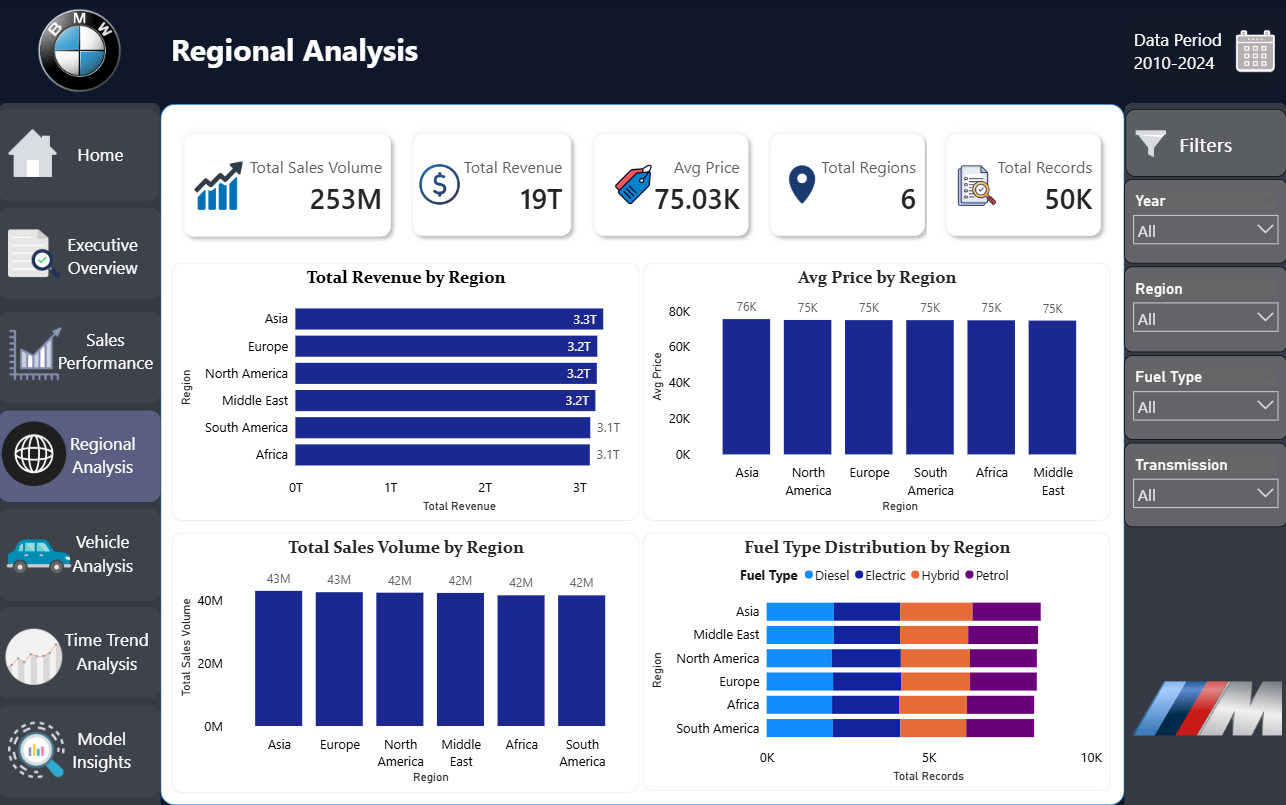

The dashboard page shown, as its layout file describes it:
{"tool":"powerbi","page":{"name":"Regional Analysis","canvas":[1600,1000],"ordinal":3},"visuals":[{"type":"shape","box":[1398,18,200,92],"z":0,"group":"g14"},{"type":"shape","box":[1398,128,202,872],"z":0},{"type":"shape","box":[0,258.8,202,114],"z":0,"group":"g7"},{"type":"shape","box":[-0.3,387.9,202,114],"z":0,"group":"g3"},{"type":"shape","box":[0,510,202,114],"z":0,"group":"g4"},{"type":"shape","box":[0,875.8,202,114],"z":0,"group":"g1"},{"type":"image","box":[1528,38,64,52],"z":1000,"group":"g14"},{"type":"shape","box":[202,130,1196,870],"z":1000},{"type":"actionButton","box":[76,510,108,109],"z":1000,"group":"g4"},{"type":"shape","box":[0,128,202,872],"z":2000},{"type":"image","box":[12.8,275.9,65,80],"z":2000,"group":"g7"},{"type":"image","box":[14.2,399,65,80],"z":2000,"group":"g3"},{"type":"image","box":[4.3,524.1,80,80],"z":2000,"group":"g4"},{"type":"image","box":[12.8,890.9,70,80],"z":2000,"group":"g1"},{"type":"actionButton","box":[76,262.8,108,108],"z":2500,"group":"g7"},{"type":"actionButton","box":[70.2,381,127,109],"z":2500,"group":"g3"},{"type":"actionButton","box":[70,875.8,118,110],"z":2500,"group":"g1"},{"type":"cardVisual","fields":{"Data":["fact_bmw_sales.Total Sales Volume"]},"box":[202,138,315,186],"z":3000,"group":"g13"},{"type":"clusteredBarChart","fields":{"Category":["fact_bmw_sales.Region"],"Y":["fact_bmw_sales.Total Revenue"]},"box":[216,328,580,320],"z":3000},{"type":"cardVisual","fields":{"Data":["fact_bmw_sales.Total Revenue"]},"box":[486,138,255,185],"z":4000,"group":"g12"},{"type":"clusteredColumnChart","fields":{"Category":["fact_bmw_sales.Region"],"Y":["fact_bmw_sales.Total Sales Volume"]},"box":[216,662,580,322],"z":4000},{"type":"cardVisual","fields":{"Data":["fact_bmw_sales.Avg Price"]},"box":[710,138,250,185],"z":5000,"group":"g11"},{"type":"clusteredColumnChart","fields":{"Category":["fact_bmw_sales.Region"],"Y":["fact_bmw_sales.Avg Price"]},"box":[800,328,580,320],"z":5000},{"type":"cardVisual","fields":{"Data":["fact_bmw_sales.Total Regions"]},"box":[929,138,250,185],"z":6000,"group":"g9"},{"type":"barChart","title":" Fuel Type Distribution by Region","fields":{"Category":["fact_bmw_sales.Region"],"Y":["fact_bmw_sales.Total Records"],"Series":["fact_bmw_sales.Fuel_Type"]},"box":[800,662,580,320],"z":6000},{"type":"image","box":[0,0,202,128],"z":7000},{"type":"cardVisual","fields":{"Data":["fact_bmw_sales.Total Records"]},"box":[1148,138,250,185],"z":7000,"group":"g10"},{"type":"group","id":"g1","title":"Group 11","box":[0,875.8,202.9,113.2],"z":8000},{"type":"group","id":"g2","title":"Group 12","box":[0,754.4,202.9,113.2],"z":9000},{"type":"group","id":"g3","title":"Group 10","box":[-0.3,381,202,120.9],"z":10000},{"type":"group","id":"g4","title":"Group 14","box":[0,510,202,114],"z":11000},{"type":"group","id":"g5","title":"Group 13","box":[-0.8,136.6,202,114],"z":12000},{"type":"group","id":"g6","title":"Group 9","box":[0,632.2,202,114],"z":13000},{"type":"group","id":"g7","title":"Group 15","box":[0,258.8,202,114],"z":14000},{"type":"slicer","fields":{"Values":["fact_bmw_sales.Year"]},"box":[1398,224,202,105],"z":15000},{"type":"slicer","fields":{"Values":["fact_bmw_sales.Transmission"]},"box":[1398,550,202,105],"z":16000},{"type":"image","box":[244,202,60.4,60.3],"z":17000,"group":"g13"},{"type":"slicer","fields":{"Values":["fact_bmw_sales.Region"]},"box":[1398,332.4,202,106],"z":17000},{"type":"textbox","box":[1399.2,136.7,200,84],"z":18000,"group":"g8"},{"type":"slicer","fields":{"Values":["fact_bmw_sales.Fuel_Type"]},"box":[1398,441.7,202,105],"z":18000},{"type":"image","box":[1405.6,153.8,50,50],"z":19000,"group":"g8"},{"type":"image","box":[1406,828,186,104],"z":19000},{"type":"group","id":"g8","title":"Group 16","box":[1399.2,136.7,200,84],"z":20000},{"type":"image","box":[523,200,50,60],"z":20000,"group":"g12"},{"type":"shape","box":[0,632.2,202,114],"z":20007,"group":"g6"},{"type":"shape","box":[0,754.4,202,114],"z":20008,"group":"g2"},{"type":"image","box":[8.5,767.3,70,100],"z":20018,"group":"g2"},{"type":"image","box":[10.7,651.2,80,80],"z":20019,"group":"g6"},{"type":"actionButton","box":[76,754.4,118,110],"z":20518,"group":"g2"},{"type":"actionButton","box":[76,632.2,108,109],"z":20519,"group":"g6"},{"type":"group","id":"g9","title":"Group 1","box":[929,138,250,185],"z":21000},{"type":"image","box":[762,200,50,60],"z":21000,"group":"g11"},{"type":"group","id":"g10","title":"Group 2","box":[1148,138,250,185],"z":22000},{"type":"group","id":"g11","title":"Group 3","box":[710,138,250,185],"z":23000},{"type":"group","id":"g12","title":"Group 4","box":[486,138,255,185],"z":24000},{"type":"shape","box":[-0.8,136.6,202,114],"z":25000,"group":"g5"},{"type":"group","id":"g13","title":"Group 5","box":[202,138,315,186],"z":25000},{"type":"textbox","box":[210,32,360,70],"z":26000},{"type":"group","id":"g14","title":"Group 17","box":[1398,18,200,92],"z":27000},{"type":"image","box":[4.3,151.7,80,80],"z":27000,"group":"g5"},{"type":"actionButton","box":[69.2,136.6,118,110],"z":27500,"group":"g5"},{"type":"image","box":[1190,202,50,60],"z":29000,"group":"g10"},{"type":"image","box":[972,200,50,60],"z":30000,"group":"g9"}]}

Visuals, with their boxes in screenshot pixels (x1, y1, x2, y2), scaled from the page's 1600x1000 canvas onto the 1286x805 screenshot:
shape: l=1124, t=14, r=1284, b=89
shape: l=1124, t=103, r=1285, b=804
shape: l=0, t=208, r=162, b=300
shape: l=0, t=312, r=162, b=404
shape: l=0, t=411, r=162, b=502
shape: l=0, t=705, r=162, b=797
image: l=1228, t=31, r=1280, b=72
shape: l=162, t=105, r=1124, b=804
actionButton: l=61, t=411, r=148, b=498
shape: l=0, t=103, r=162, b=804
image: l=10, t=222, r=63, b=286
image: l=11, t=321, r=64, b=386
image: l=3, t=422, r=68, b=486
image: l=10, t=717, r=67, b=782
actionButton: l=61, t=212, r=148, b=298
actionButton: l=56, t=307, r=158, b=394
actionButton: l=56, t=705, r=151, b=794
cardVisual - fact_bmw_sales.Total Sales Volume: l=162, t=111, r=416, b=261
clusteredBarChart - fact_bmw_sales.Region x fact_bmw_sales.Total Revenue: l=174, t=264, r=640, b=522
cardVisual - fact_bmw_sales.Total Revenue: l=391, t=111, r=596, b=260
clusteredColumnChart - fact_bmw_sales.Region x fact_bmw_sales.Total Sales Volume: l=174, t=533, r=640, b=792
cardVisual - fact_bmw_sales.Avg Price: l=571, t=111, r=772, b=260
clusteredColumnChart - fact_bmw_sales.Region x fact_bmw_sales.Avg Price: l=643, t=264, r=1109, b=522
cardVisual - fact_bmw_sales.Total Regions: l=747, t=111, r=948, b=260
" Fuel Type Distribution by Region" barChart: l=643, t=533, r=1109, b=791
image: l=0, t=0, r=162, b=103
cardVisual - fact_bmw_sales.Total Records: l=923, t=111, r=1124, b=260
"Group 11" group: l=0, t=705, r=163, b=796
"Group 12" group: l=0, t=607, r=163, b=698
"Group 10" group: l=0, t=307, r=162, b=404
"Group 14" group: l=0, t=411, r=162, b=502
"Group 13" group: l=0, t=110, r=162, b=202
"Group 9" group: l=0, t=509, r=162, b=601
"Group 15" group: l=0, t=208, r=162, b=300
slicer - fact_bmw_sales.Year: l=1124, t=180, r=1285, b=265
slicer - fact_bmw_sales.Transmission: l=1124, t=443, r=1285, b=527
image: l=196, t=163, r=245, b=211
slicer - fact_bmw_sales.Region: l=1124, t=268, r=1285, b=353
textbox: l=1125, t=110, r=1285, b=178
slicer - fact_bmw_sales.Fuel_Type: l=1124, t=356, r=1285, b=440
image: l=1130, t=124, r=1170, b=164
image: l=1130, t=667, r=1280, b=750
"Group 16" group: l=1125, t=110, r=1285, b=178
image: l=420, t=161, r=461, b=209
shape: l=0, t=509, r=162, b=601
shape: l=0, t=607, r=162, b=699
image: l=7, t=618, r=63, b=698
image: l=9, t=524, r=73, b=589
actionButton: l=61, t=607, r=156, b=696
actionButton: l=61, t=509, r=148, b=597
"Group 1" group: l=747, t=111, r=948, b=260
image: l=612, t=161, r=653, b=209
"Group 2" group: l=923, t=111, r=1124, b=260
"Group 3" group: l=571, t=111, r=772, b=260
"Group 4" group: l=391, t=111, r=596, b=260
shape: l=0, t=110, r=162, b=202
"Group 5" group: l=162, t=111, r=416, b=261
textbox: l=169, t=26, r=458, b=82
"Group 17" group: l=1124, t=14, r=1284, b=89
image: l=3, t=122, r=68, b=187
actionButton: l=56, t=110, r=150, b=199
image: l=956, t=163, r=997, b=211
image: l=781, t=161, r=821, b=209
